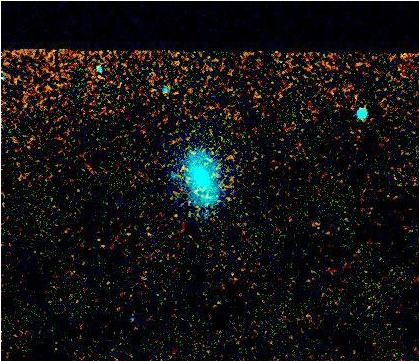star: (388, 37, 418, 67)
